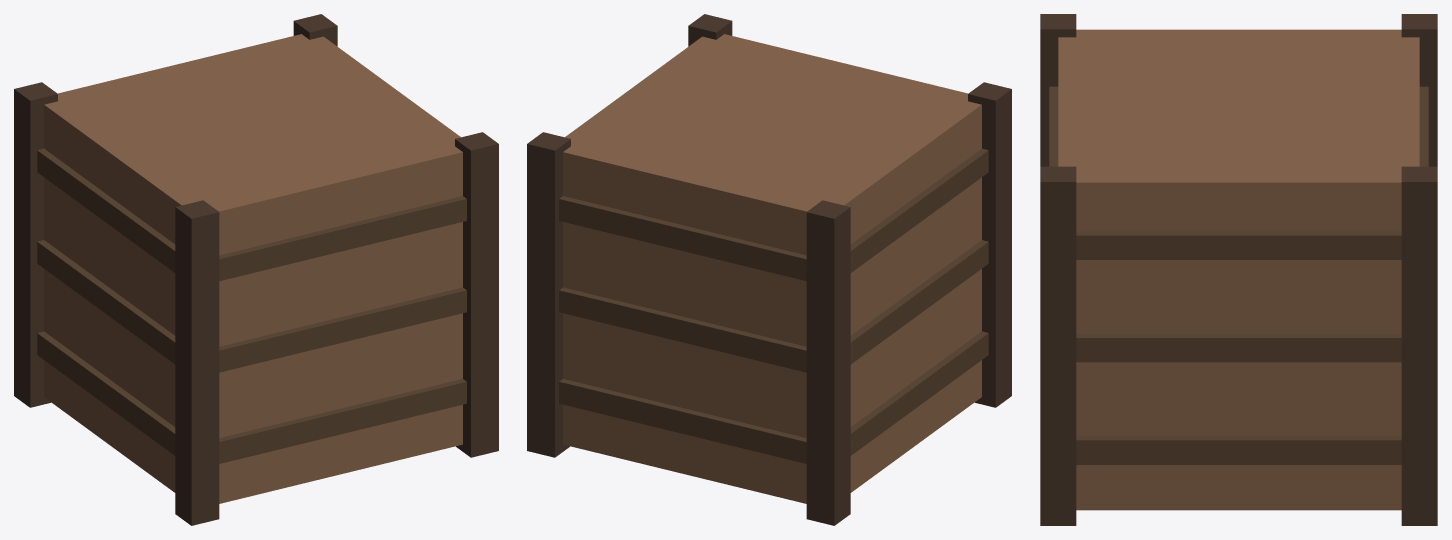
Rendered from Crate.fbx.
3 renders of one model, left to right at view 1: azimuth 30°, elevation 25°; view 2: azimuth 150°, elevation 25°; view 3: azimuth 270°, elevation 25°, orthographic. The views are drawn at different scales.
Visible parts, largest first — view 1: Crate; view 2: Crate; view 3: Crate.
Part boxes in pixels (bbox=[...]): Crate: bbox=[14, 14, 498, 525]; Crate: bbox=[527, 14, 1011, 525]; Crate: bbox=[1040, 14, 1437, 525].
Bounding box in the file's own units: 0.88 × 0.84 × 0.88.
